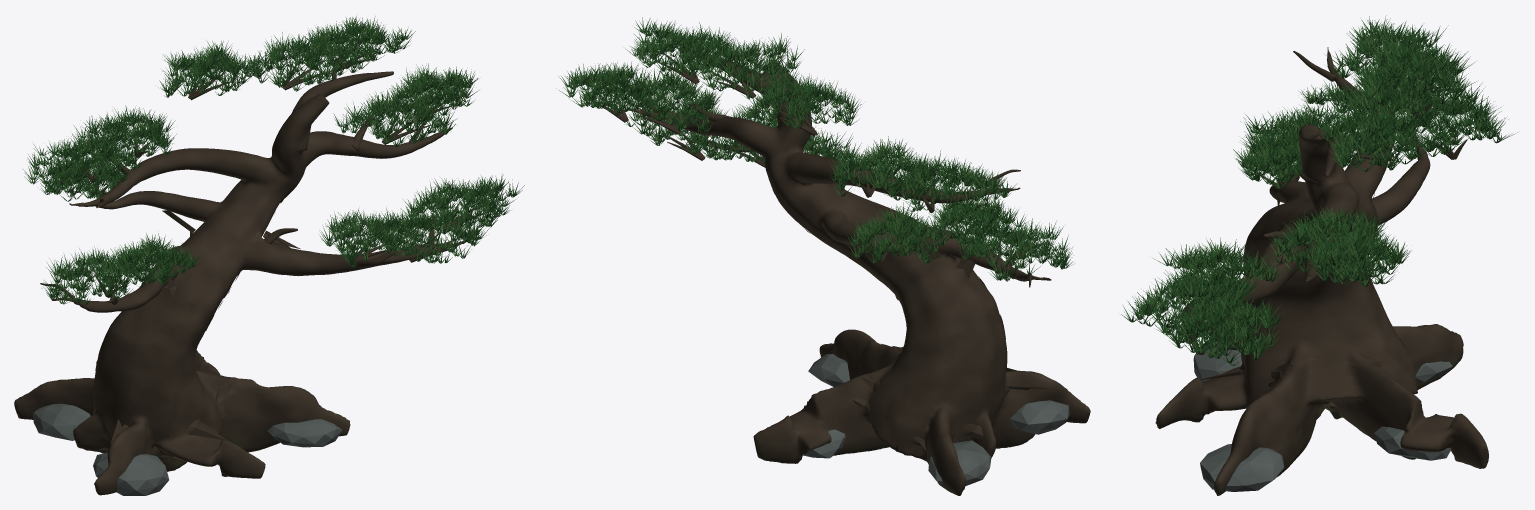
The model's file is h28-gate-pine.glb.
3 views of the same model, side by side, from view 1: azimuth 30°, elevation 25°; view 2: azimuth 150°, elevation 25°; view 3: azimuth 270°, elevation 25° (orthographic). The views are drawn at different scales.
Parts seen in each view (by area): view 1: H28 WOOD continuous trunk roots welcoming arm, H28 NEEDLES open asymmetric crown, H28 ROCKS rooted slope contact; view 2: H28 WOOD continuous trunk roots welcoming arm, H28 NEEDLES open asymmetric crown, H28 ROCKS rooted slope contact; view 3: H28 WOOD continuous trunk roots welcoming arm, H28 NEEDLES open asymmetric crown, H28 ROCKS rooted slope contact.
Boxes of the visible parts, left/top/right/bottom form: H28 WOOD continuous trunk roots welcoming arm: left=14, top=45, right=485, bottom=495; H28 NEEDLES open asymmetric crown: left=23, top=16, right=524, bottom=304; H28 ROCKS rooted slope contact: left=33, top=403, right=342, bottom=495; H28 WOOD continuous trunk roots welcoming arm: left=598, top=50, right=1090, bottom=495; H28 NEEDLES open asymmetric crown: left=558, top=17, right=1073, bottom=281; H28 ROCKS rooted slope contact: left=802, top=354, right=1069, bottom=485; H28 WOOD continuous trunk roots welcoming arm: left=1155, top=47, right=1488, bottom=495; H28 NEEDLES open asymmetric crown: left=1121, top=15, right=1517, bottom=365; H28 ROCKS rooted slope contact: left=1193, top=341, right=1452, bottom=491.
Bounding box in the file's own units: 8.68 × 6.55 × 5.32.
